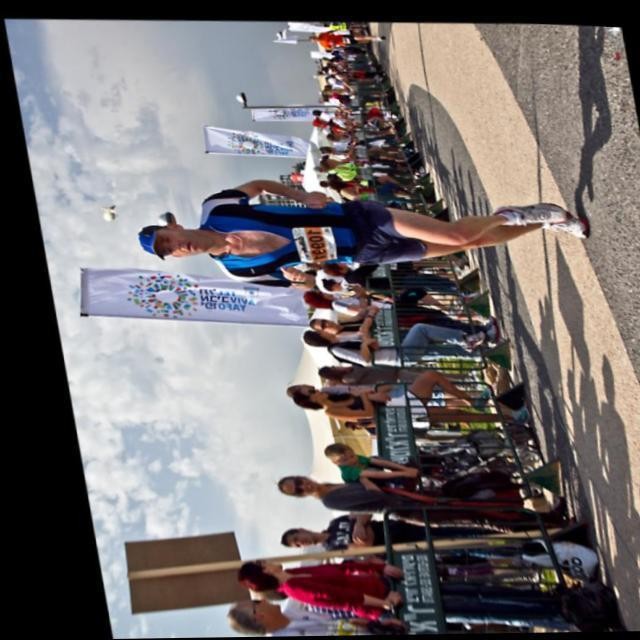dorsal: (280, 218, 338, 264)
